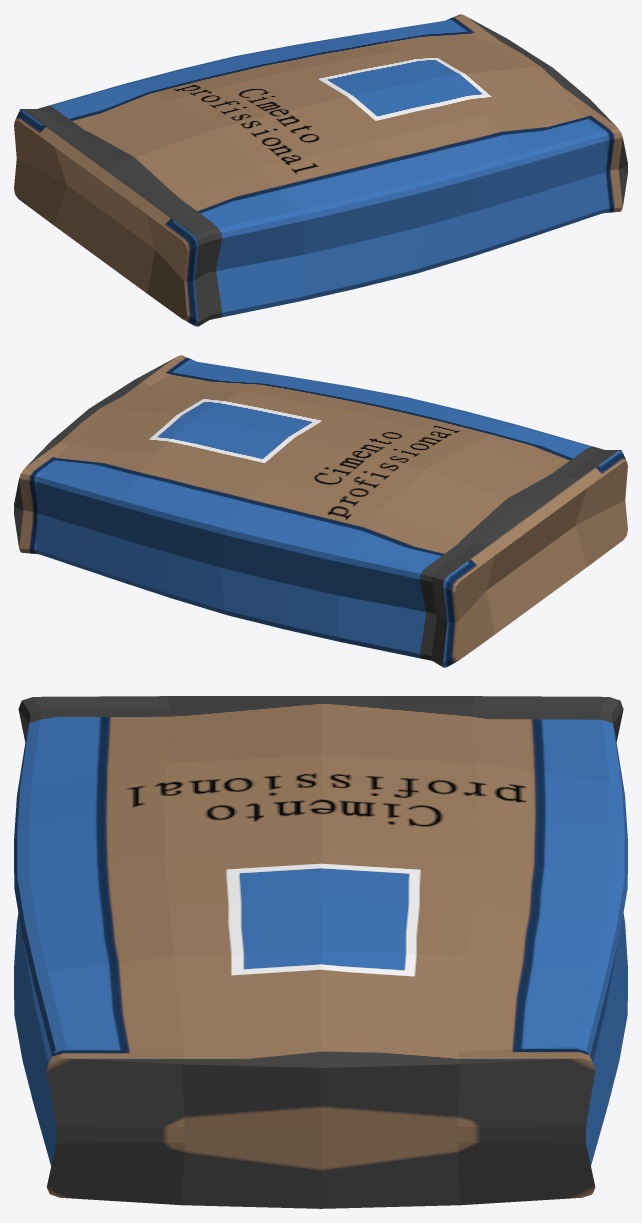
File: cimento.fbx
3 renders of one model, top to bottom at view 1: azimuth 30°, elevation 25°; view 2: azimuth 150°, elevation 25°; view 3: azimuth 270°, elevation 25°, orthographic. The views are drawn at different scales.
Visible parts, largest first — view 1: cimento; view 2: cimento; view 3: cimento.
Part boxes in pixels (left/top/right/bottom): cimento: left=14, top=14, right=627, bottom=326; cimento: left=14, top=355, right=627, bottom=667; cimento: left=14, top=696, right=627, bottom=1208.
Size of the model in its own units: 103 by 27.48 by 71.72.
1 material, 1 textured.
